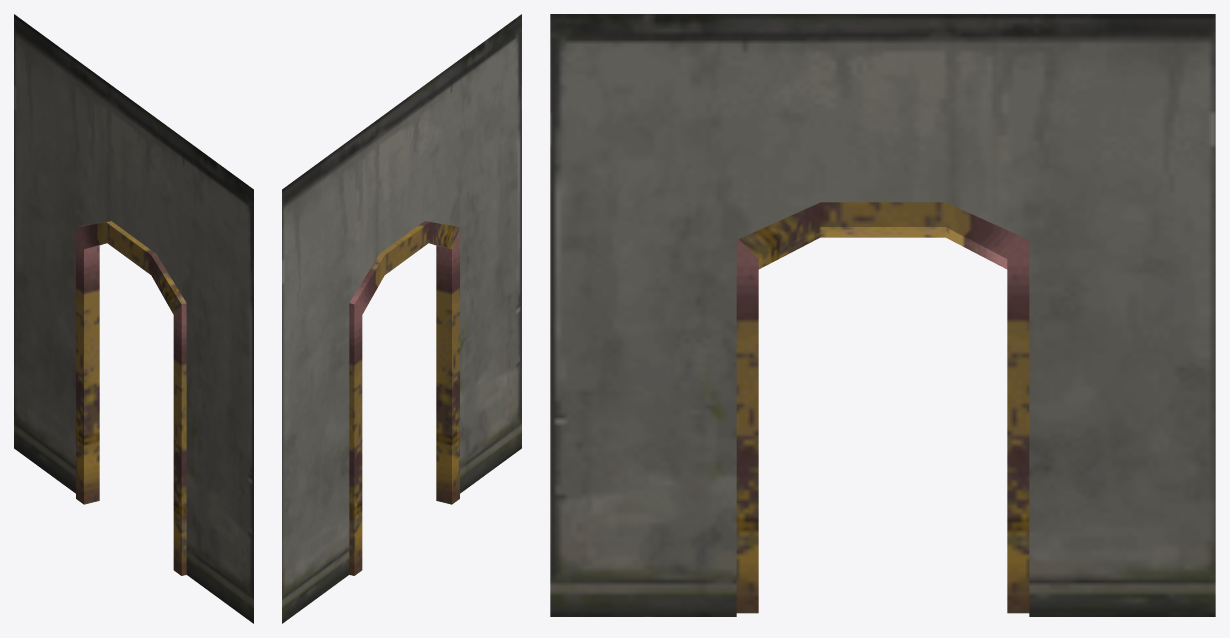
Rendered from SM_WALL_S_10.fbx.
The picture shows the model from 3 angles, left to right: view 1: azimuth 30°, elevation 25°; view 2: azimuth 150°, elevation 25°; view 3: azimuth 270°, elevation 25°; orthographic projection. The views are drawn at different scales.
Parts seen in each view (by area): view 1: SM_WALL_S_10; view 2: SM_WALL_S_10; view 3: SM_WALL_S_10.
Part boxes in pixels (box(x1,y1,x2,y2)): SM_WALL_S_10: box(14, 14, 253, 623); SM_WALL_S_10: box(282, 14, 521, 623); SM_WALL_S_10: box(550, 14, 1215, 616).
Size of the model in its own units: 0.15 by 4 by 4.
